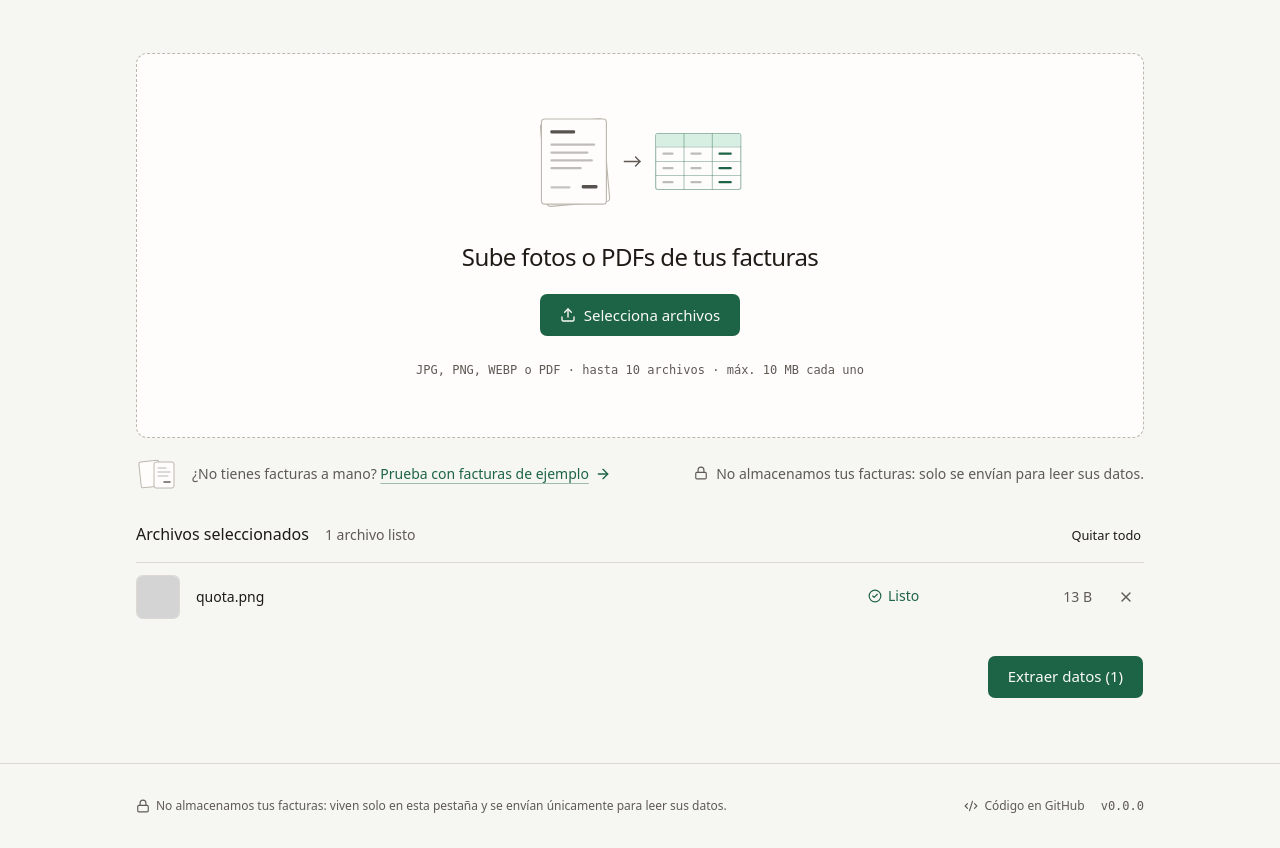
Test case: Upload → extract › explains a 503 for quota.png and keeps the files to retry
The image size is (1280, 848).
Earlier steps of the test are not shown.
(page scrolled)
Click the button "Extraer datos (1)": (1065, 676) [987, 654, 1144, 698]
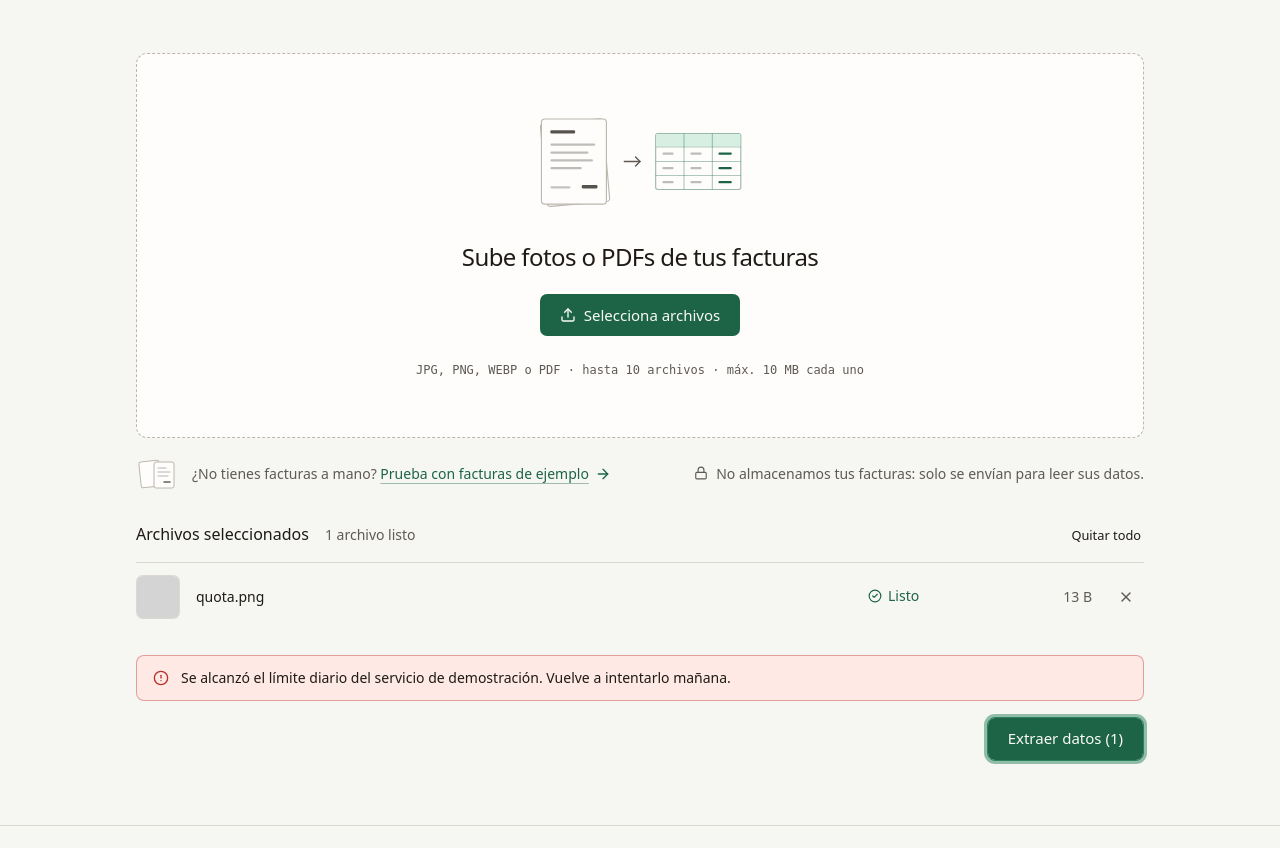
Expected: the button "Extraer datos (1)" is enabled, [987, 716, 1144, 760]
Now the message shows "Se alcanzó el límite diario del servicio de demostración. Vuelve a intentarlo mañana.", box [181, 668, 731, 686]
